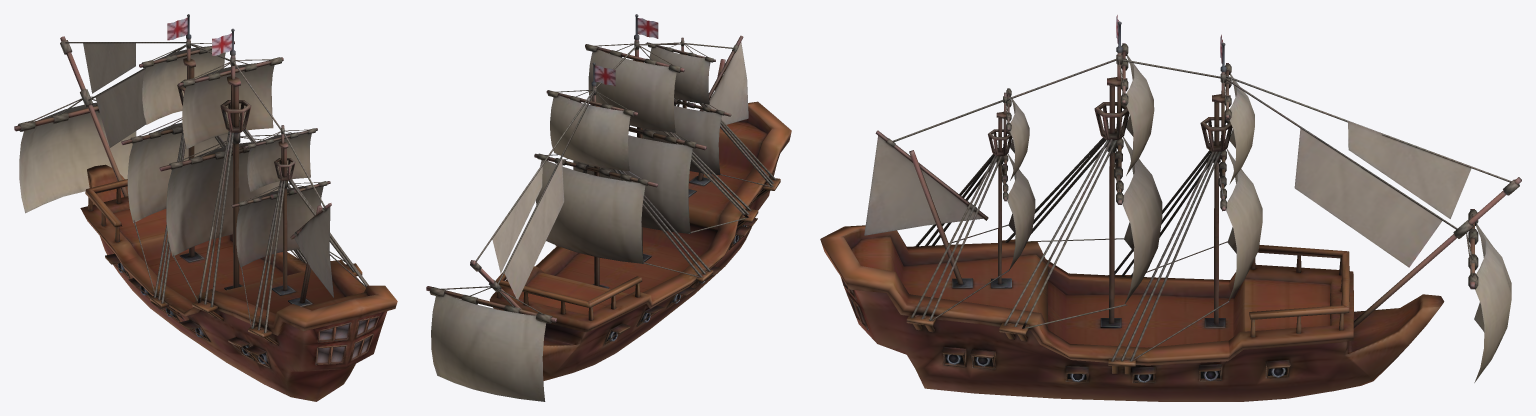
File: Frigate.glb
3 views of the same model, side by side, from view 1: azimuth 30°, elevation 25°; view 2: azimuth 150°, elevation 25°; view 3: azimuth 270°, elevation 25° (orthographic). The views are drawn at different scales.
Parts seen in each view (by area): view 1: low; view 2: low; view 3: low.
Part boxes in pixels (x1,y1,x2,y2): low: (14, 14, 397, 401); low: (426, 14, 791, 401); low: (820, 15, 1521, 401).
Bounding box in the file's own units: 2.17 × 4.08 × 6.9.
Materials: 2 (2 with a texture image).
